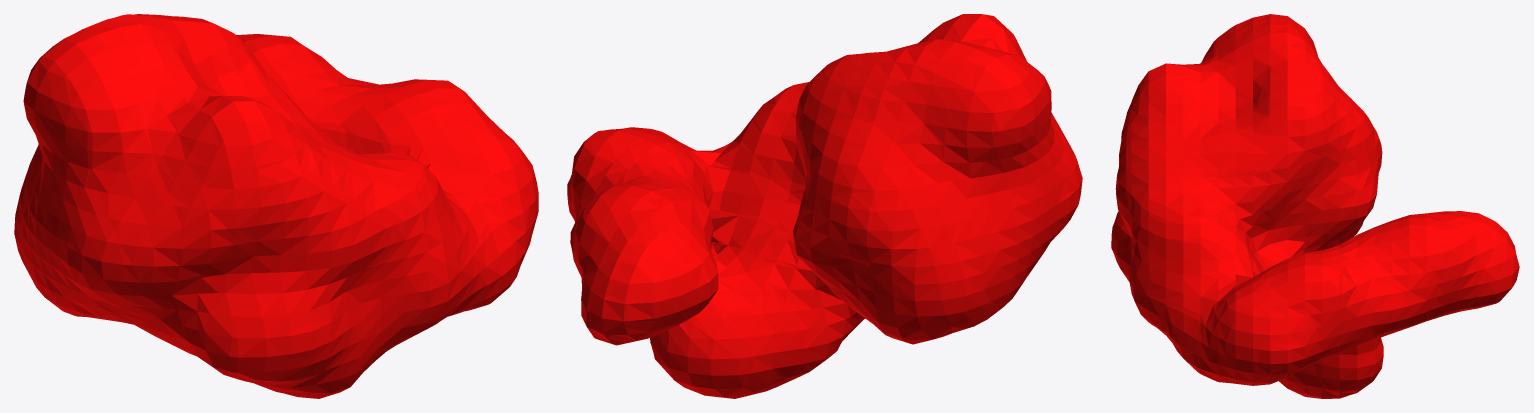
The model's file is slyA_coarse.dae.
3 views of the same model, side by side, from view 1: azimuth 30°, elevation 25°; view 2: azimuth 150°, elevation 25°; view 3: azimuth 270°, elevation 25° (orthographic). The views are drawn at different scales.
Parts seen in each view (by area): view 1: slyA; view 2: slyA; view 3: slyA.
Boxes of the visible parts, x1=… form: slyA: x1=14, y1=14, x2=538, y2=398; slyA: x1=567, y1=14, x2=1082, y2=398; slyA: x1=1111, y1=14, x2=1519, y2=398.
Size of the model in its own units: 53.17 by 41.31 by 51.46.
